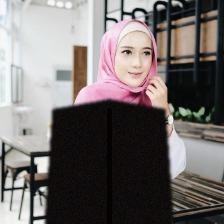Cadar_Niqab: (45, 17, 173, 224)
